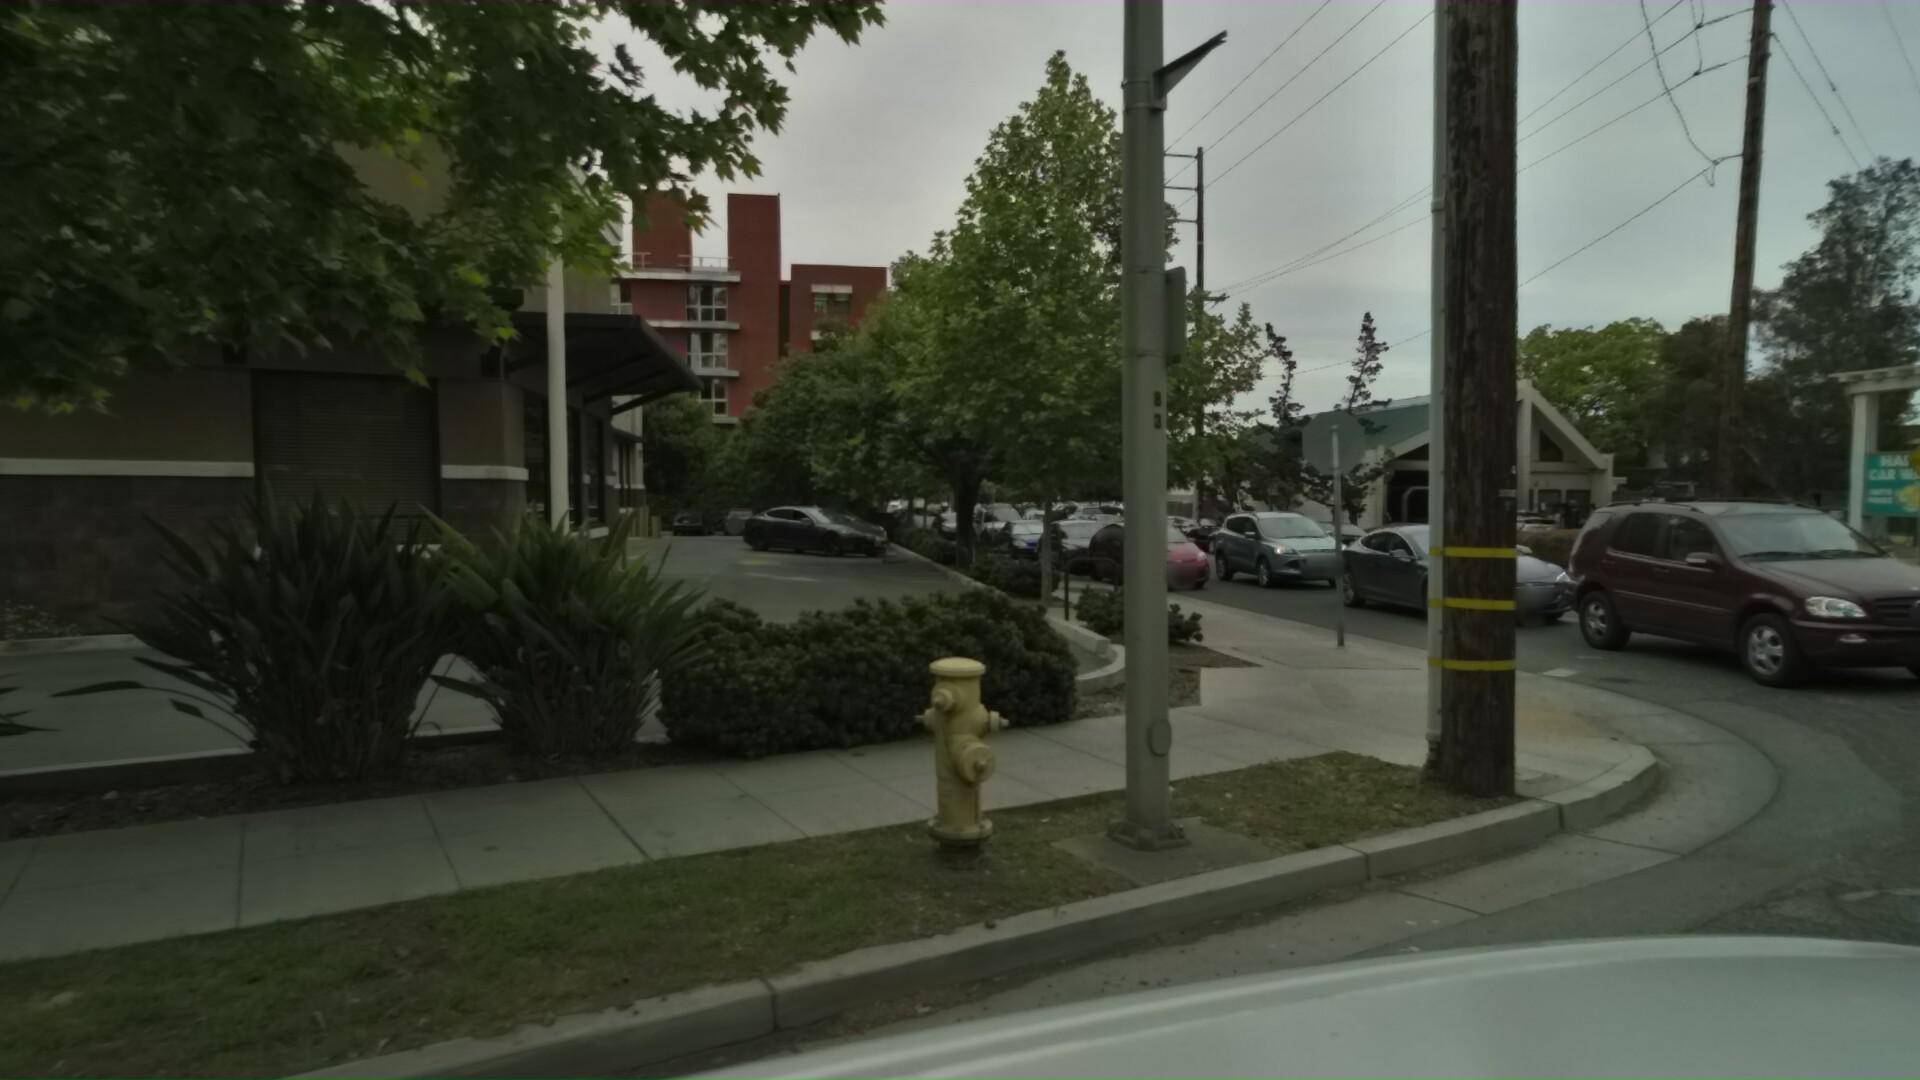car: (1545, 489, 1920, 709), (1329, 512, 1635, 640), (1217, 502, 1387, 591), (1095, 512, 1237, 597), (757, 501, 920, 560), (1040, 514, 1155, 578), (1282, 513, 1400, 571), (789, 502, 909, 549), (1002, 513, 1077, 563), (978, 501, 1043, 553), (1141, 508, 1213, 549), (940, 506, 985, 538), (679, 506, 723, 538), (1084, 508, 1131, 535), (733, 504, 771, 534), (1021, 504, 1058, 527)
